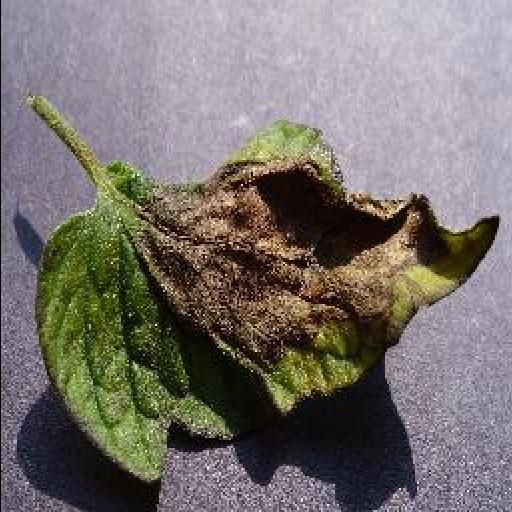disease_tomato: (34, 121, 500, 483)
